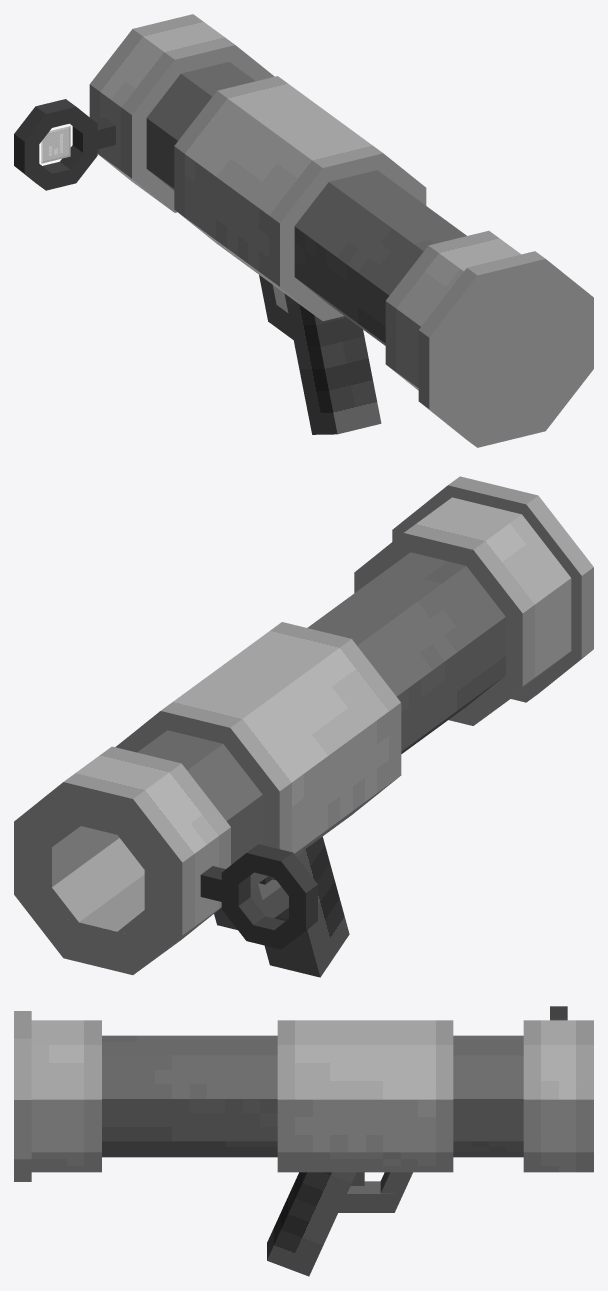
The model's file is bazooka.gltf.
3 views of the same model, one above another, from view 1: azimuth 30°, elevation 25°; view 2: azimuth 150°, elevation 25°; view 3: azimuth 270°, elevation 25° (orthographic). The views are drawn at different scales.
Visible parts, largest first — view 1: cube (×28); view 2: cube (×36); view 3: cube (×23).
Part boxes in pixels (x1,y1,x2,y2): cube (×28): (14, 14, 593, 447); cube (×36): (14, 476, 593, 977); cube (×23): (14, 1011, 593, 1276).
Size of the model in its own units: 0.4219 by 0.4768 by 1.03.
2 materials, 2 textured.
